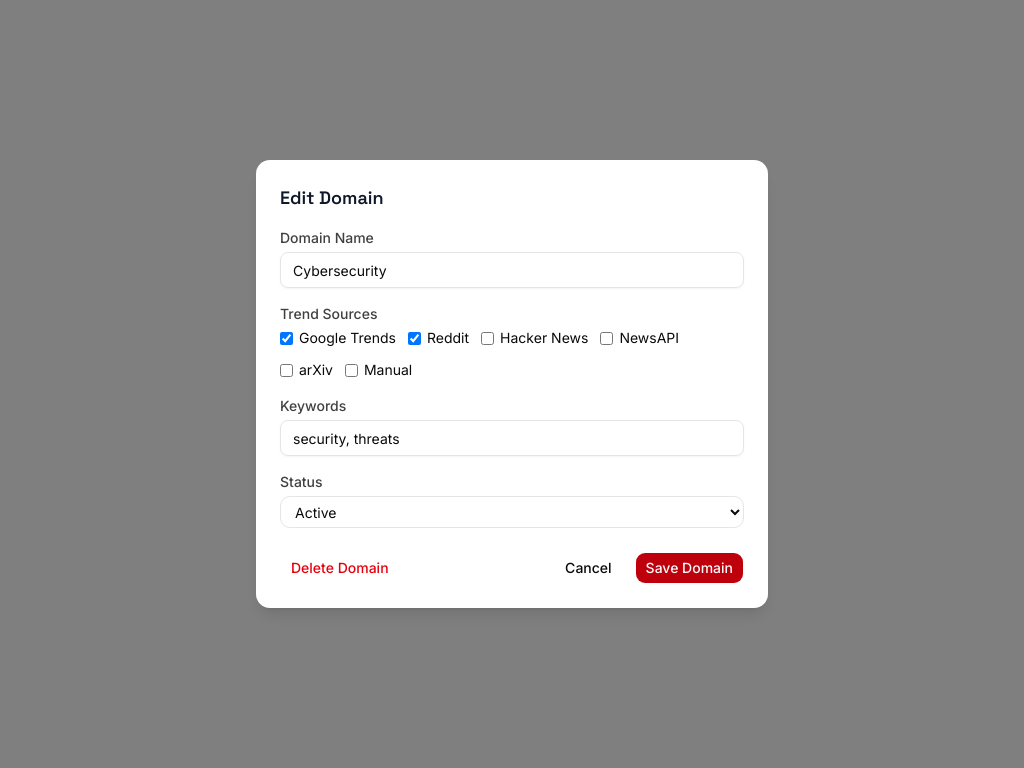
Test: DomainModal › shows confirmation before delete
Click the button "Delete Domain" at (340,568), box [280,552,400,584]
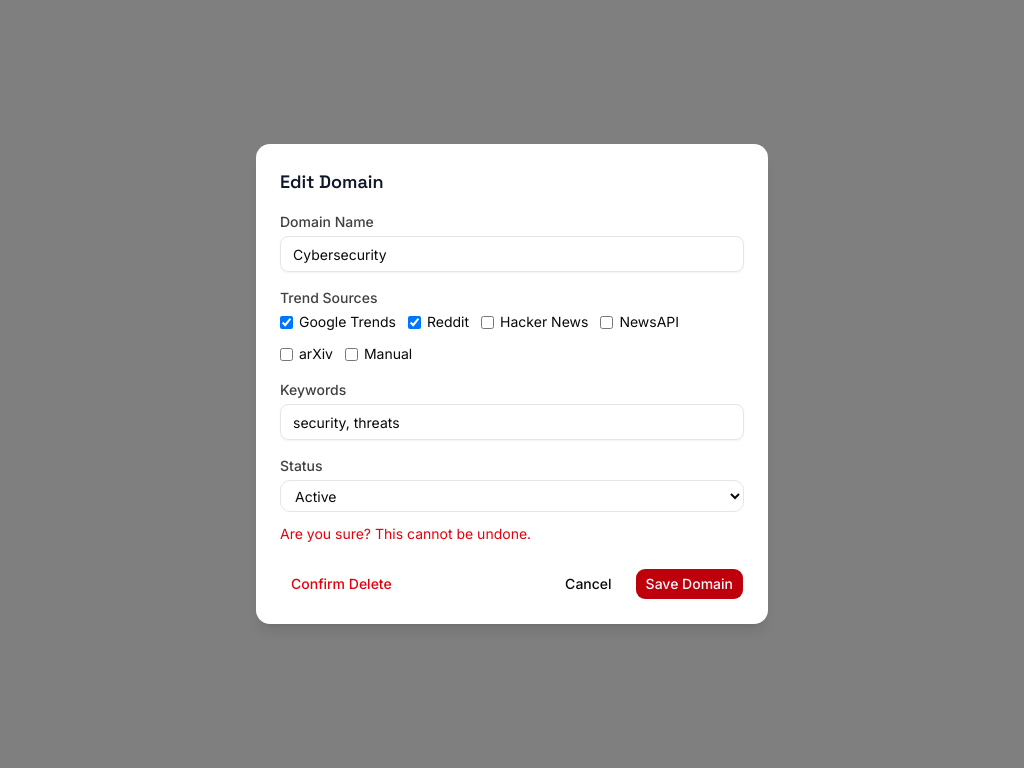
Expected: the text "Are you sure? This cannot be undone." is shown, [280,525,531,542]
